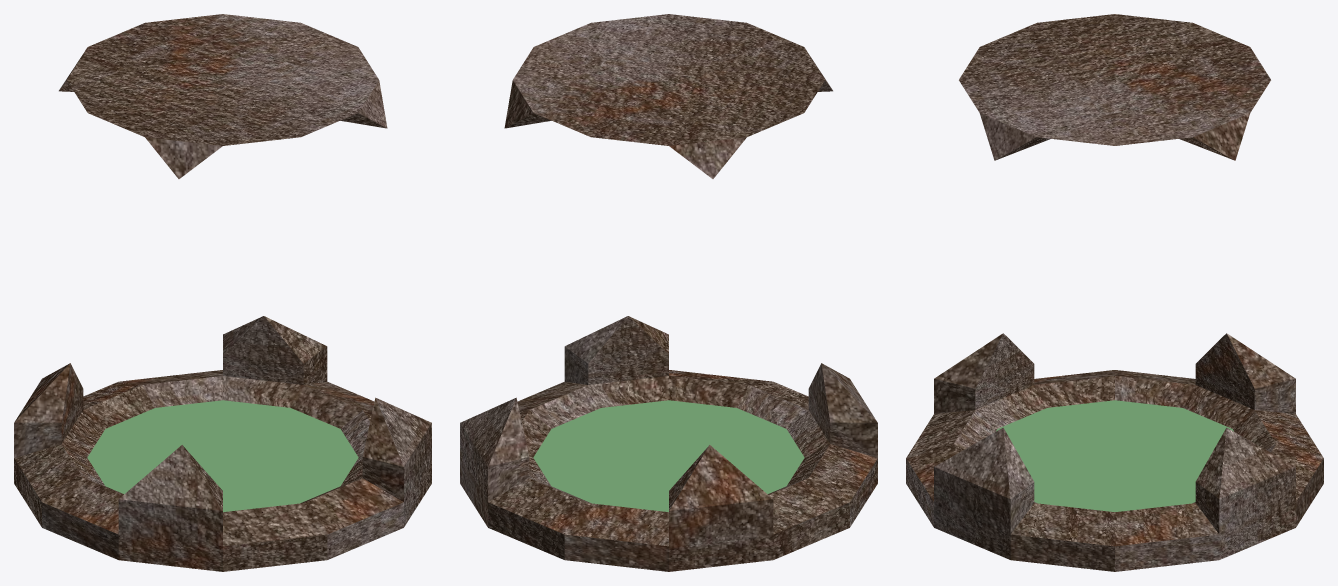
The model's file is healingwell.glb.
3 views of the same model, side by side, from view 1: azimuth 30°, elevation 25°; view 2: azimuth 150°, elevation 25°; view 3: azimuth 270°, elevation 25° (orthographic).
Visible parts, largest first — view 1: healing well; view 2: healing well; view 3: healing well.
Boxes of the visible parts, x1,y1,x2,y2 form: healing well: (14, 14, 431, 571); healing well: (460, 14, 877, 571); healing well: (906, 14, 1323, 571).
Size of the model in its own units: 2.59 by 2.77 by 2.59.
2 materials, 1 textured.
